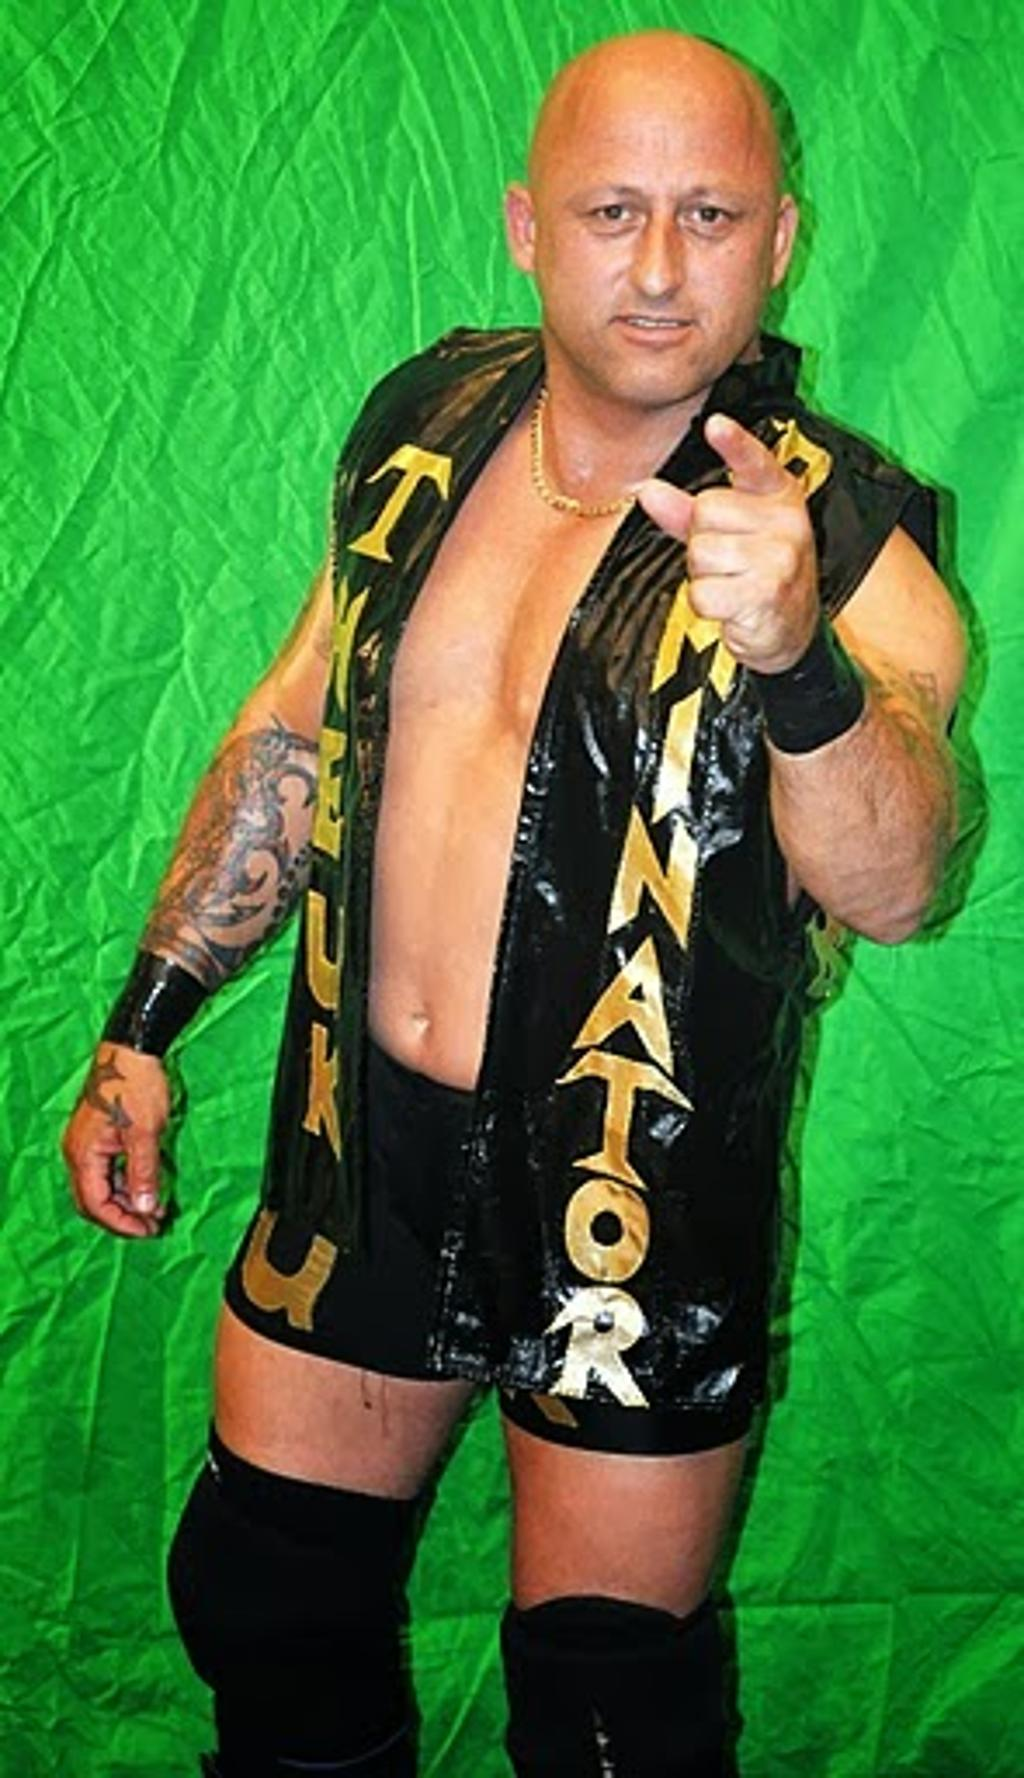face: (545, 66, 781, 403)
